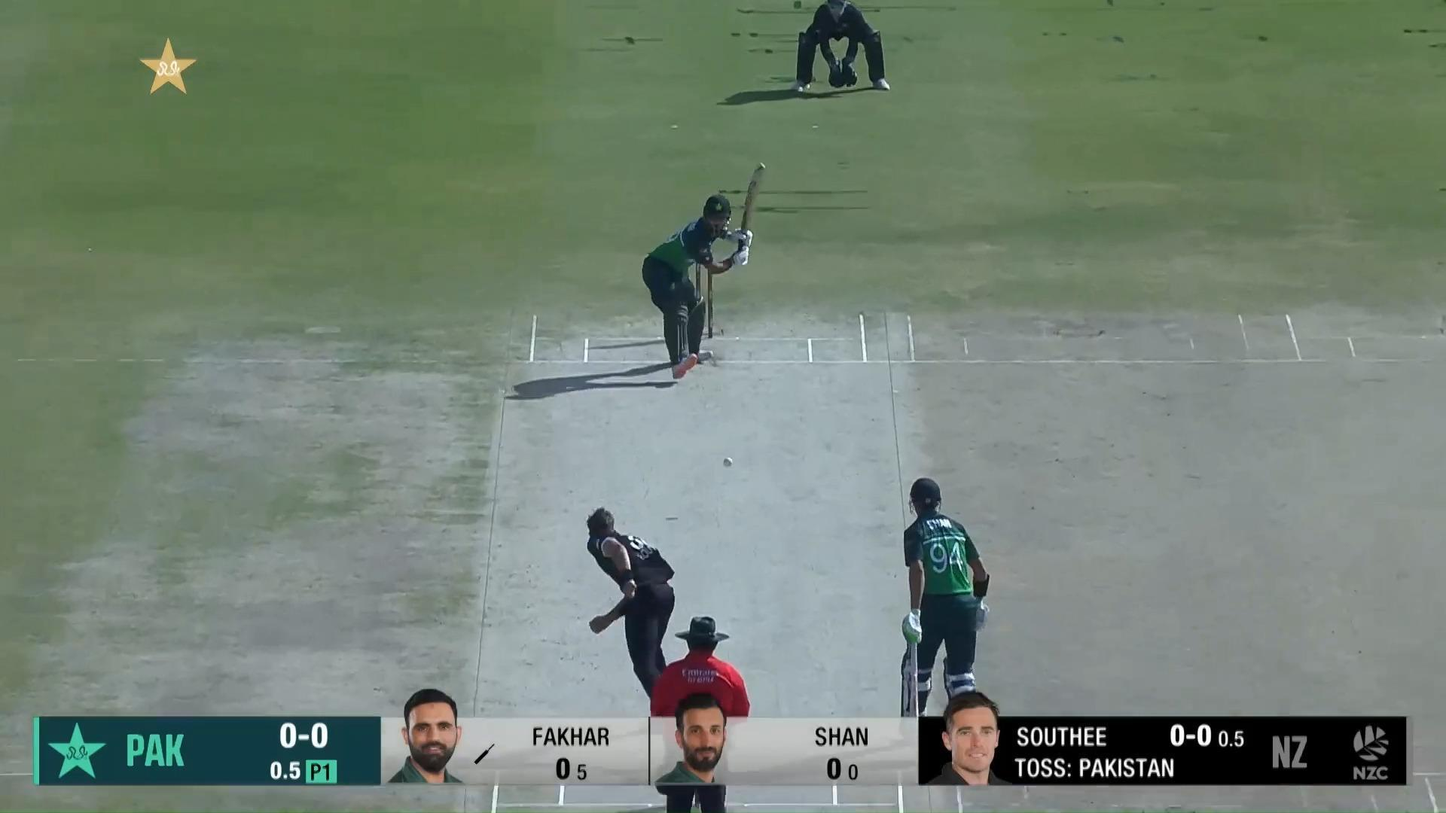BM 1: (640, 160, 769, 380)
BO: (583, 505, 677, 695)
